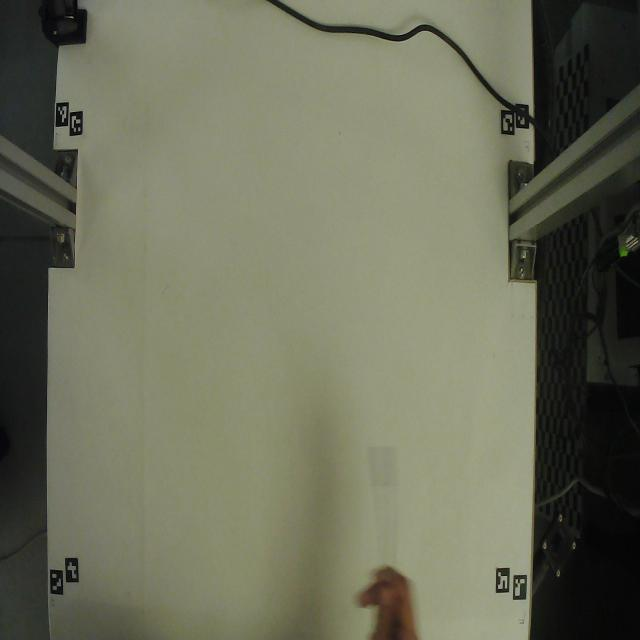NoPres: (362, 426, 411, 587)
